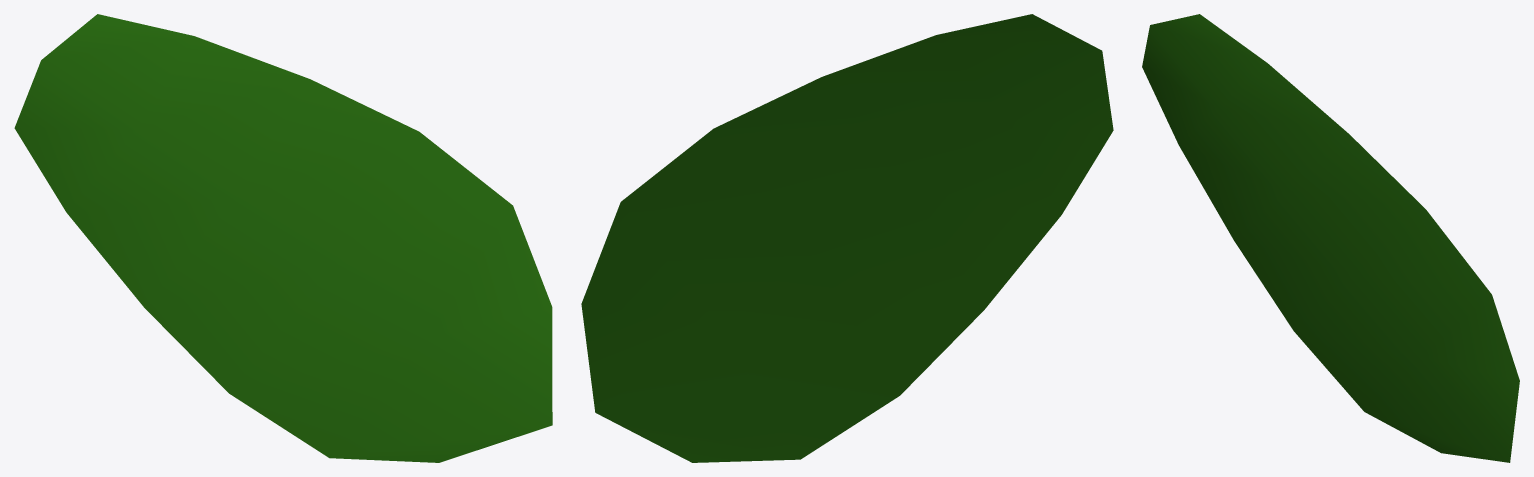
The model's file is lovebird_feather_flight_tertiary_027.001.obj.
3 views of the same model, side by side, from view 1: azimuth 30°, elevation 25°; view 2: azimuth 150°, elevation 25°; view 3: azimuth 330°, elevation 25° (orthographic). The views are drawn at different scales.
Parts seen in each view (by area): view 1: feather_flight_tertiary_027.001; view 2: feather_flight_tertiary_027.001; view 3: feather_flight_tertiary_027.001.
Boxes of the visible parts, x1,y1,x2,y2 form: feather_flight_tertiary_027.001: (14,14,552,462); feather_flight_tertiary_027.001: (581,14,1113,462); feather_flight_tertiary_027.001: (1142,14,1519,462).
Bounding box in the file's own units: 0.00672 × 0.00639 × 0.000249.
